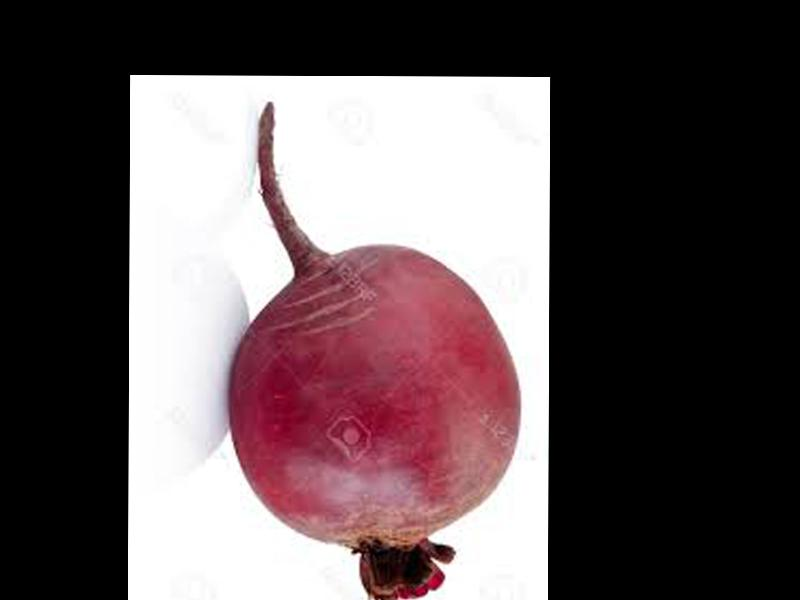Beet: (228, 102, 519, 597)
